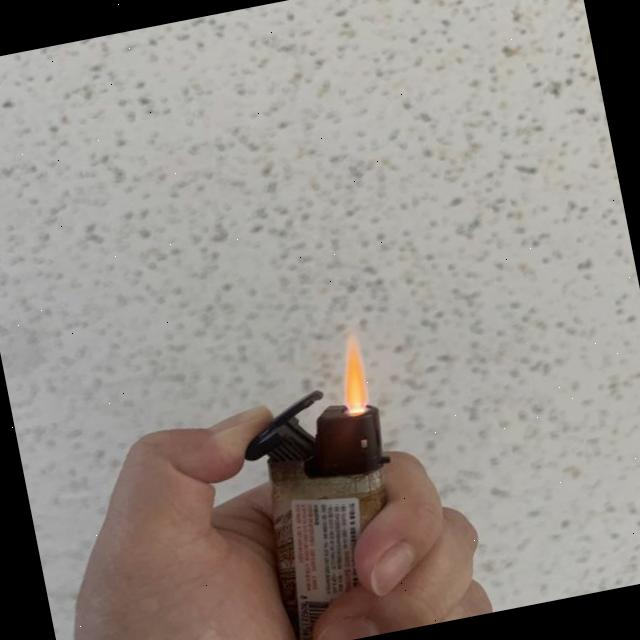fire: (332, 334, 372, 411)
